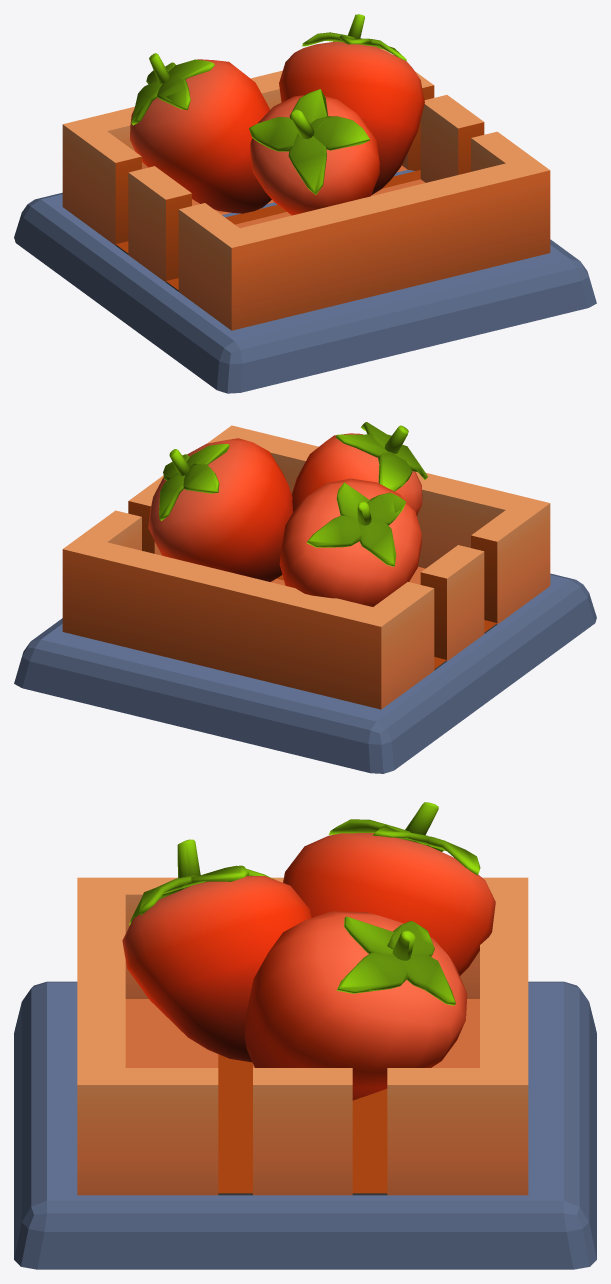
File: Strawberry.fbx
3 views of the same model, one above another, from view 1: azimuth 30°, elevation 25°; view 2: azimuth 150°, elevation 25°; view 3: azimuth 270°, elevation 25° (orthographic). The views are drawn at different scales.
Visible parts, largest first — view 1: strawberry; view 2: strawberry; view 3: strawberry.
Boxes of the visible parts, x1=… form: strawberry: x1=14, y1=14, x2=596, y2=393; strawberry: x1=14, y1=422, x2=596, y2=773; strawberry: x1=14, y1=802, x2=596, y2=1269.
Bounding box in the file's own units: 171 × 89.48 × 171.
